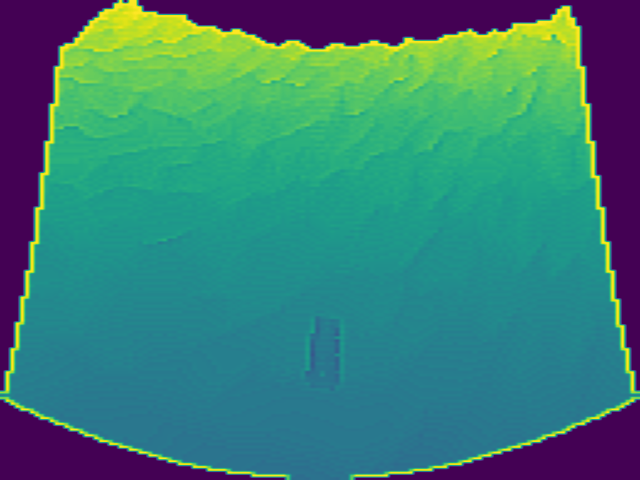car_0198: (303, 315, 343, 390)
